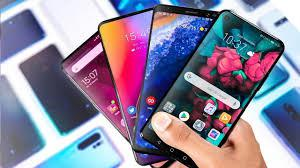Hand: (153, 107, 300, 168)
Smartphone: (145, 4, 297, 161), (119, 0, 225, 159), (68, 34, 142, 168), (99, 11, 162, 168), (24, 47, 97, 127), (0, 63, 40, 146), (259, 11, 300, 78), (29, 136, 114, 168), (272, 96, 300, 163), (0, 8, 43, 50)
